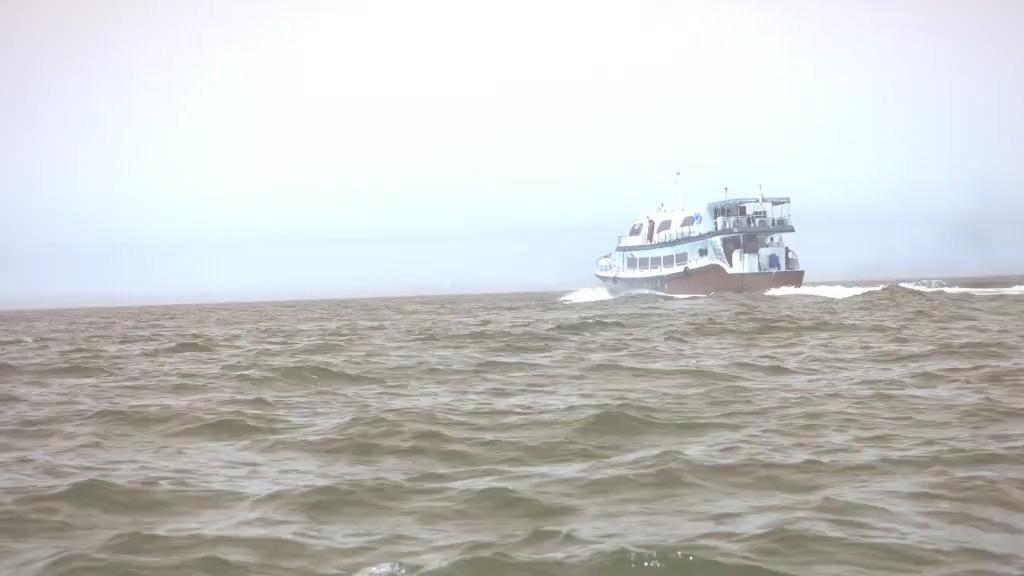PassengerShip: (590, 177, 814, 307)
